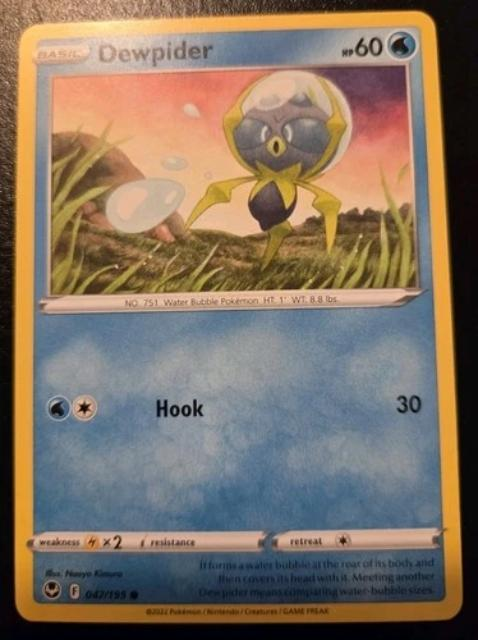Card: (9, 5, 465, 627)
Name: (91, 37, 219, 67)
